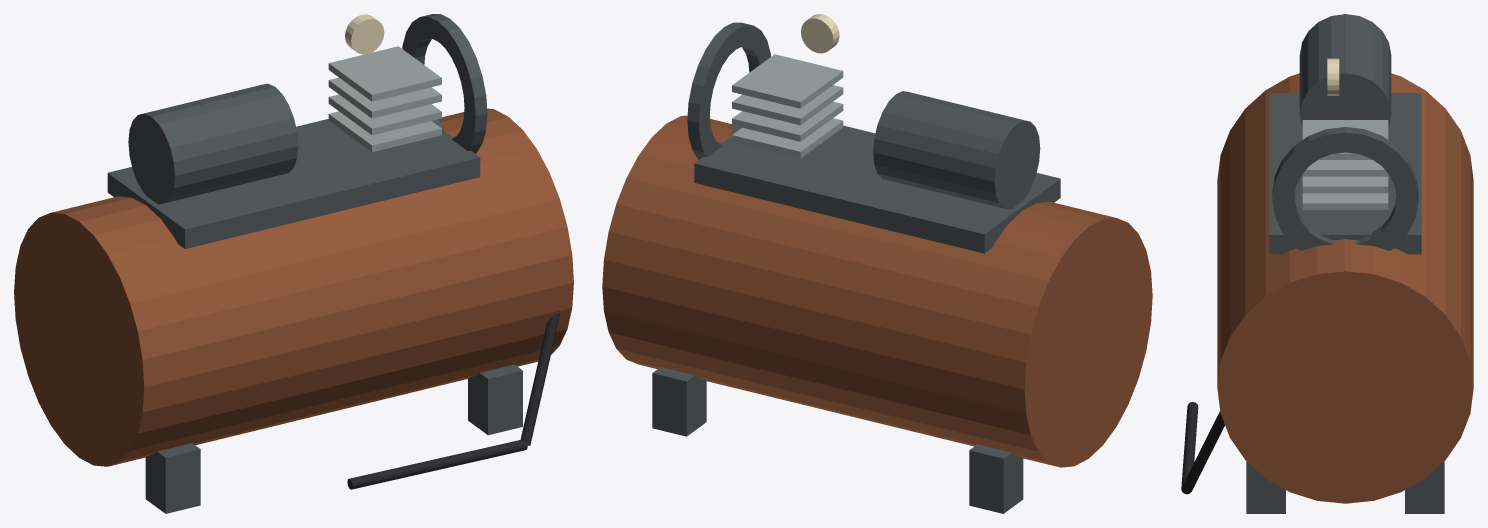
File: SHOP_OldCompressor.glb
3 renders of one model, left to right at view 1: azimuth 30°, elevation 25°; view 2: azimuth 150°, elevation 25°; view 3: azimuth 270°, elevation 25°, orthographic.
Visible parts, largest first — view 1: Tank, MotorPlate, DeadMotor, PumpFins, Feet, Flywheel, DisconnectedHose, DeadGauge; view 2: Tank, MotorPlate, DeadMotor, PumpFins, Feet, Flywheel, DeadGauge; view 3: Tank, DeadMotor, MotorPlate, Flywheel, PumpFins, Feet, DisconnectedHose, DeadGauge.
Part boxes in pixels (left/top/right/bottom): Tank: left=14, top=108, right=573, bottom=466; MotorPlate: left=107, top=119, right=480, bottom=248; DeadMotor: left=128, top=83, right=298, bottom=204; PumpFins: left=328, top=46, right=441, bottom=152; Feet: left=145, top=364, right=522, bottom=513; Flywheel: left=402, top=14, right=487, bottom=153; DisconnectedHose: left=347, top=313, right=559, bottom=489; DeadGauge: left=345, top=14, right=384, bottom=54; Tank: left=602, top=115, right=1152, bottom=467; MotorPlate: left=694, top=125, right=1060, bottom=253; DeadMotor: left=873, top=91, right=1040, bottom=209; PumpFins: left=732, top=54, right=843, bottom=158; Feet: left=652, top=367, right=1023, bottom=513; Flywheel: left=687, top=22, right=770, bottom=159; DeadGauge: left=801, top=14, right=839, bottom=53; Tank: left=1217, top=73, right=1473, bottom=503; DeadMotor: left=1299, top=14, right=1391, bottom=128; MotorPlate: left=1269, top=93, right=1421, bottom=254; Flywheel: left=1272, top=127, right=1418, bottom=250; PumpFins: left=1302, top=120, right=1388, bottom=209; Feet: left=1246, top=461, right=1444, bottom=513; DisconnectedHose: left=1181, top=402, right=1224, bottom=494; DeadGauge: left=1327, top=58, right=1339, bottom=95.
Bounding box in the file's own units: 0.8 × 0.721 × 0.479.
